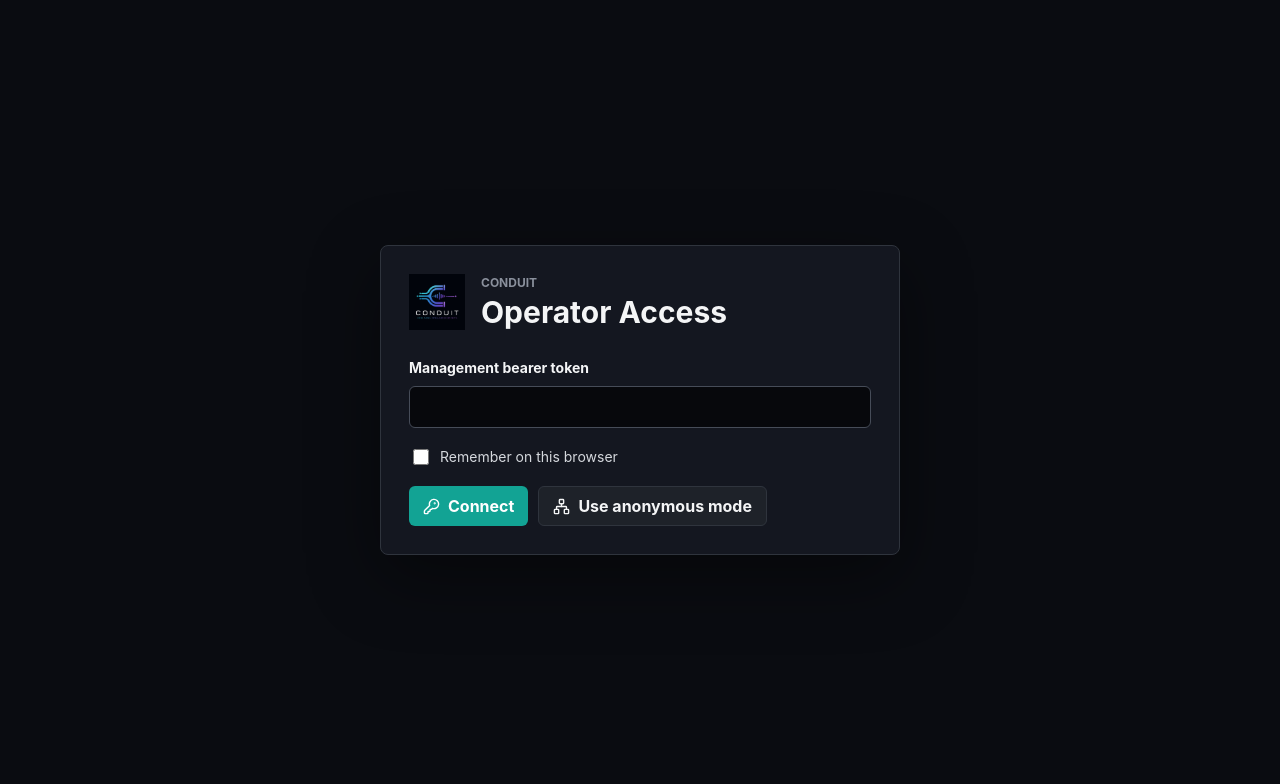
Test case: Overview operations workspace › loads status and pipeline graph data from the API after access
Click the button "Use anonymous mode". click: [653, 506]
box: [538,486,767,526]
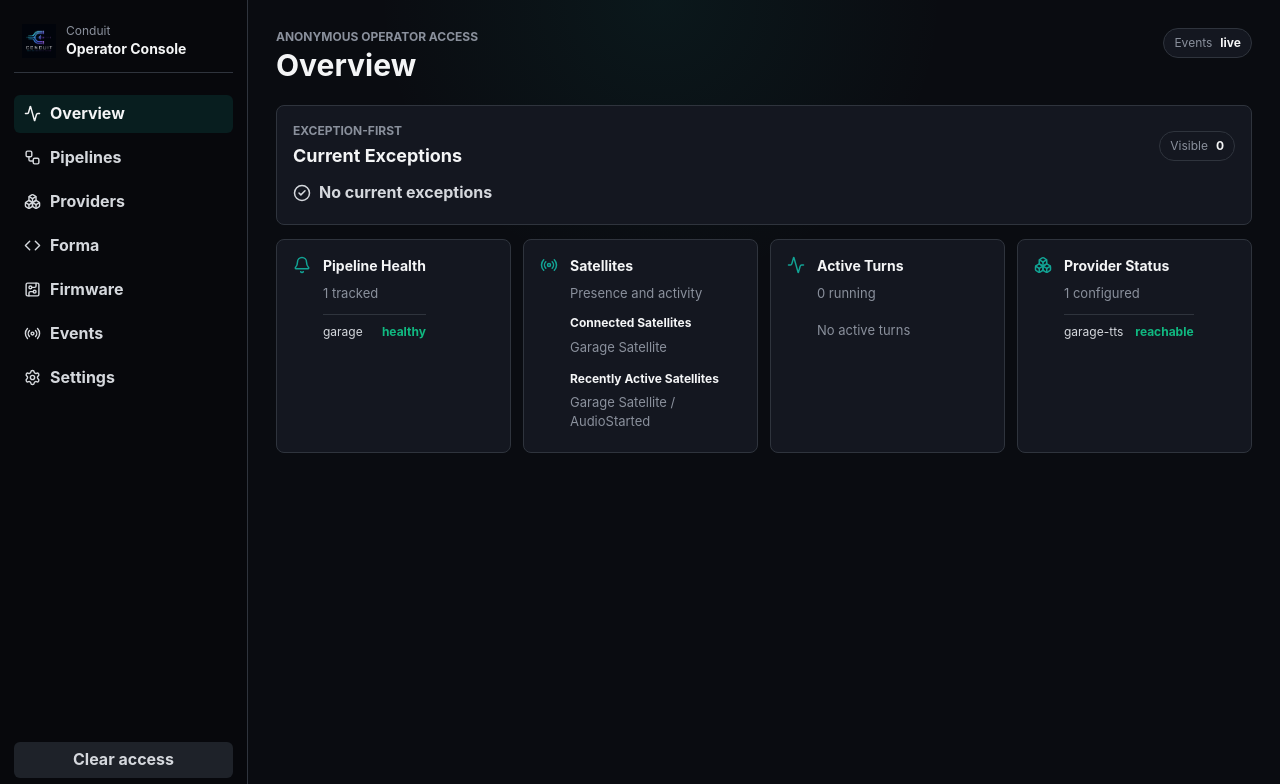
Result: the text "Garage Satellite" is shown at [570,339,667,355]
Result: the text "garage-tts" is shown at [1064,323,1123,341]
Click the tab "Pipelines". click: [124, 158]
box: [14,139,233,177]
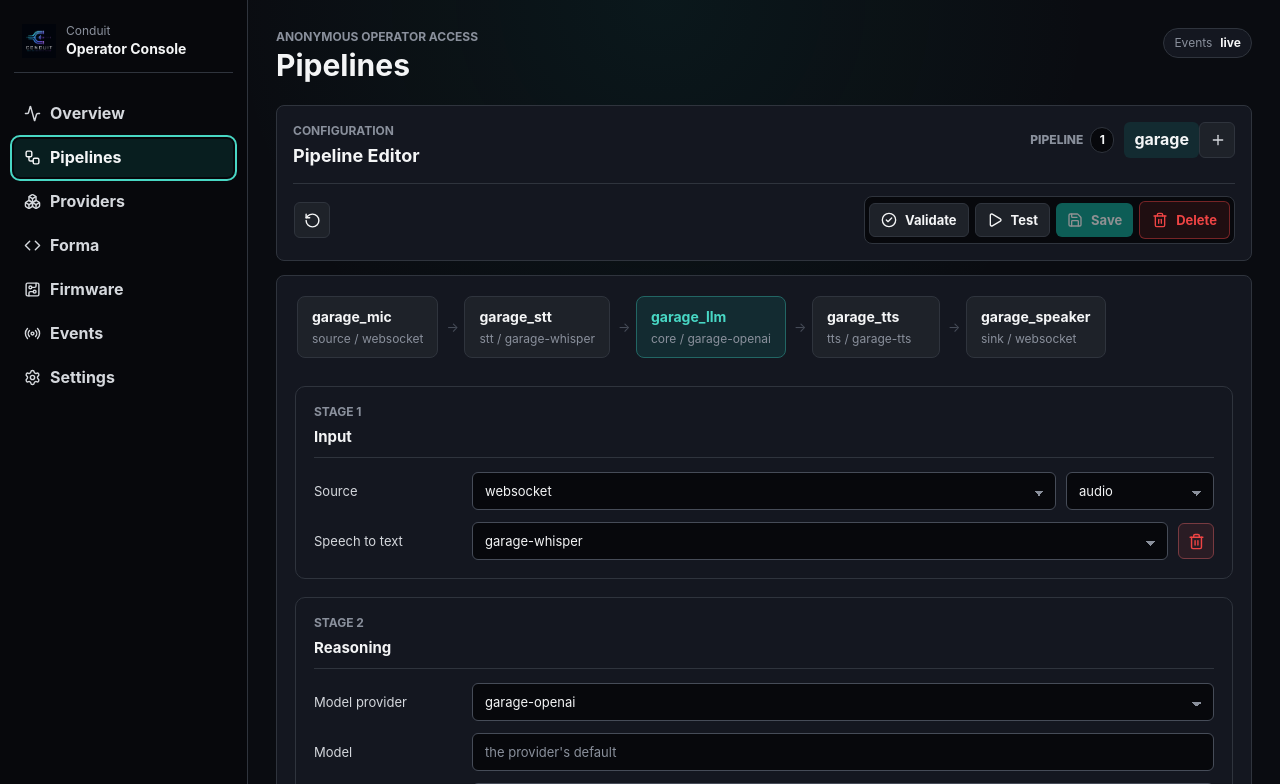
Result: the text "garage_mic" is shown at [312,308,392,326]
Result: the text "garage_tts" is shown at [827,308,899,326]
Result: the list named "Pipeline stages" is shown at [295,294,1233,368]
